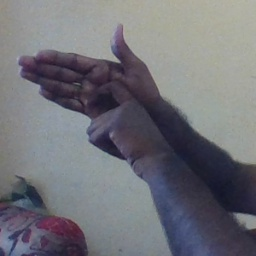R: (15, 22, 159, 155)
